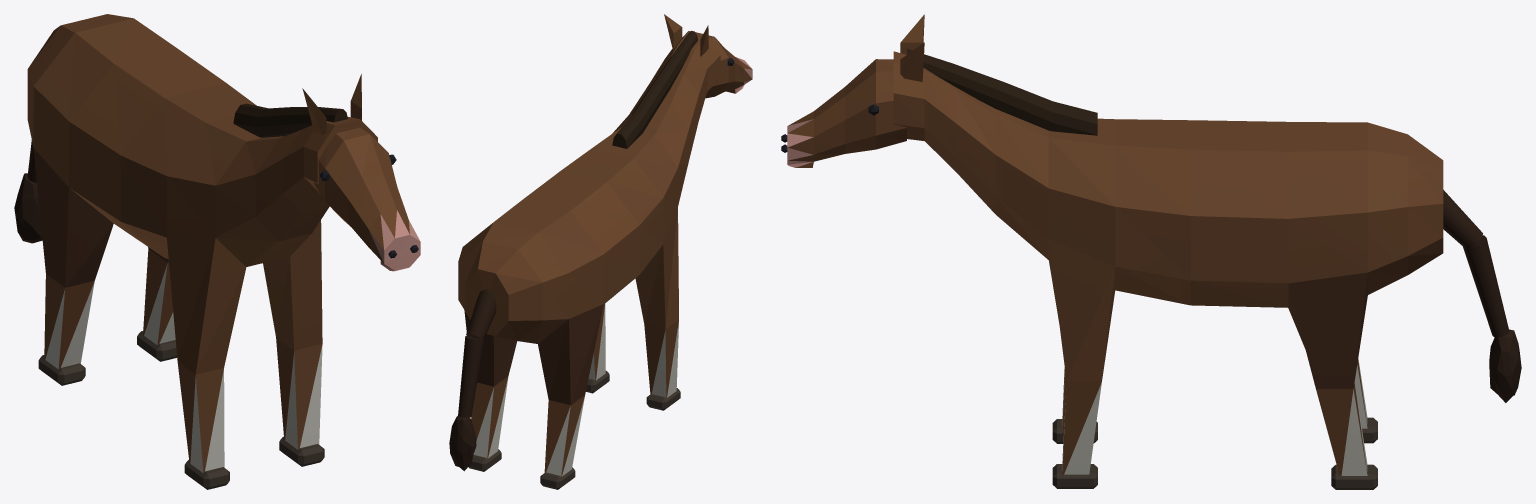
Rendered from hf-horse.glb.
3 renders of one model, left to right at view 1: azimuth 30°, elevation 25°; view 2: azimuth 150°, elevation 25°; view 3: azimuth 270°, elevation 25°, orthographic. The views are drawn at different scales.
Parts seen in each view (by area): view 1: horse; view 2: horse; view 3: horse.
Part boxes in pixels (box(x1,y1,x2,y2)): horse: box(14, 14, 420, 489); horse: box(449, 14, 752, 489); horse: box(781, 14, 1521, 489).
Size of the model in its own units: 0.683 by 1.9 by 2.94.
